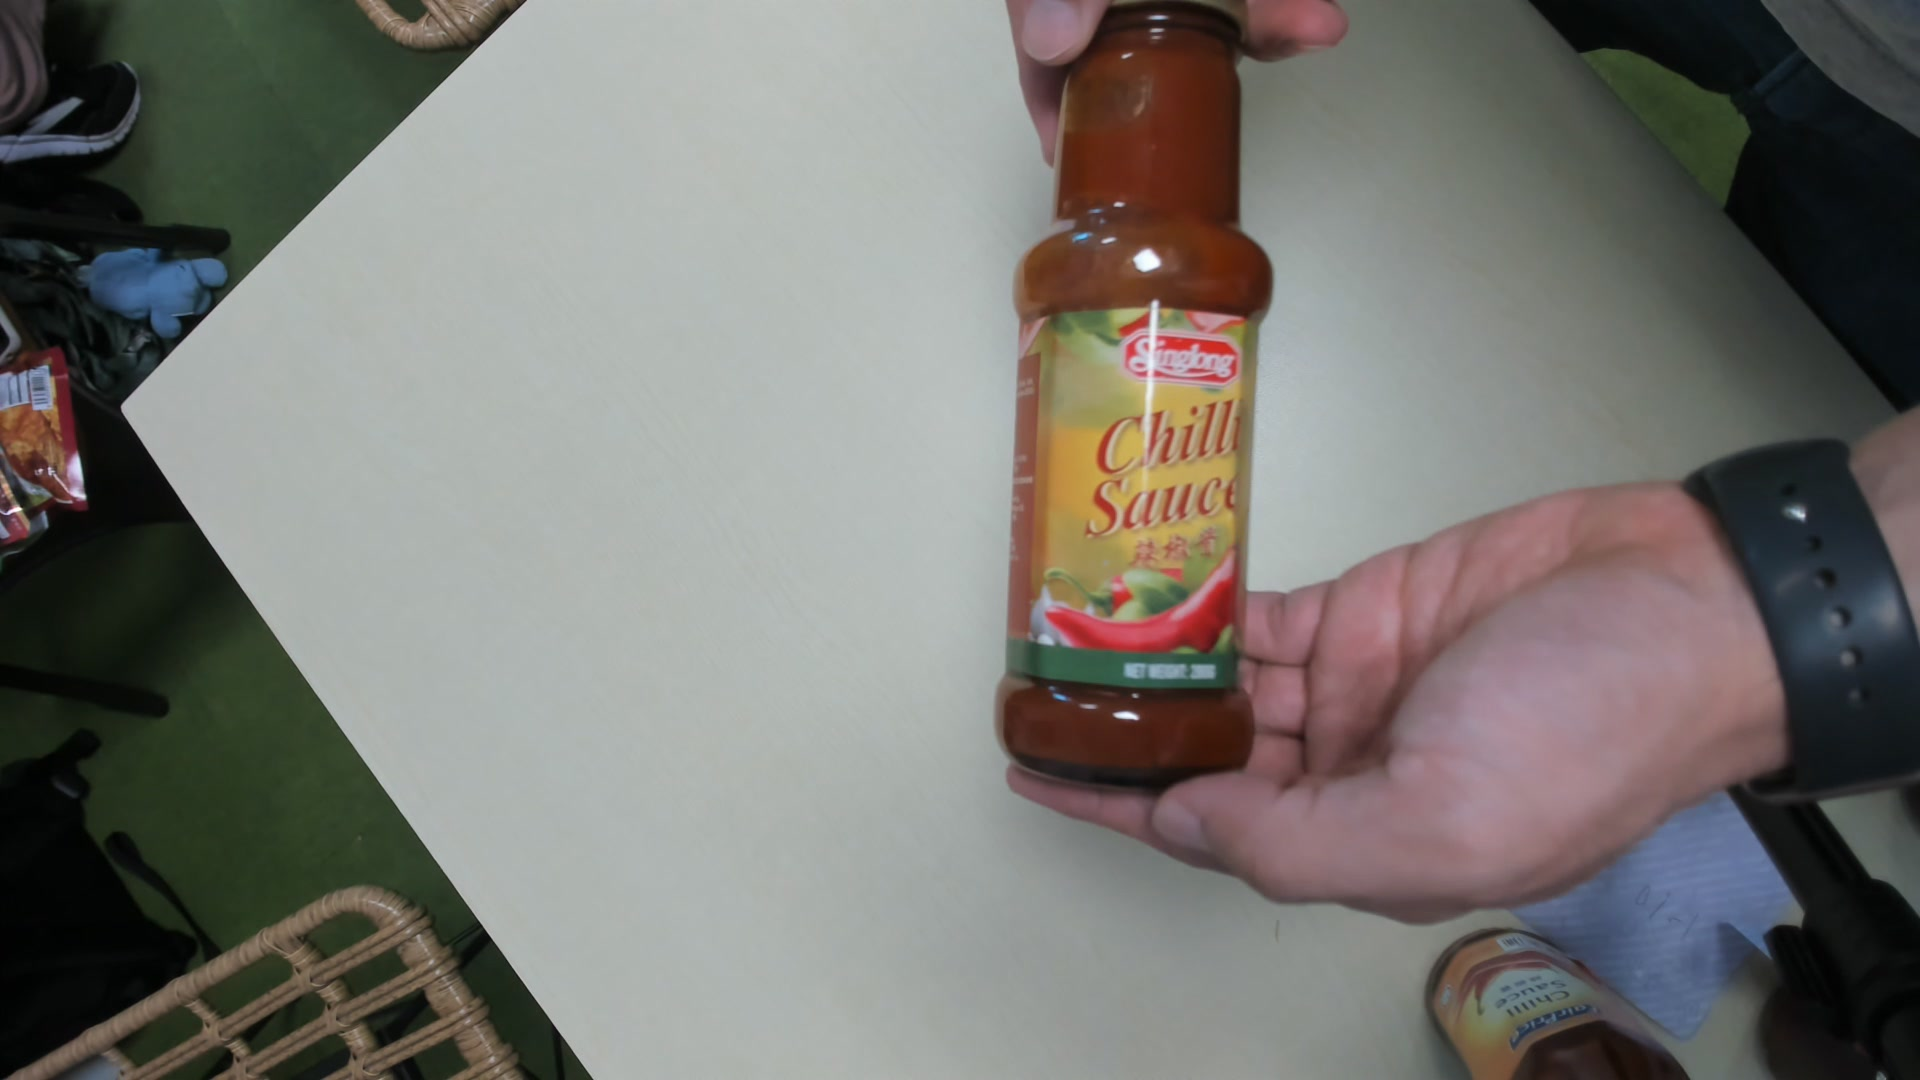KetchupChillSauce_200-299g_Halal_NonHealthy: (992, 3, 1275, 790)
